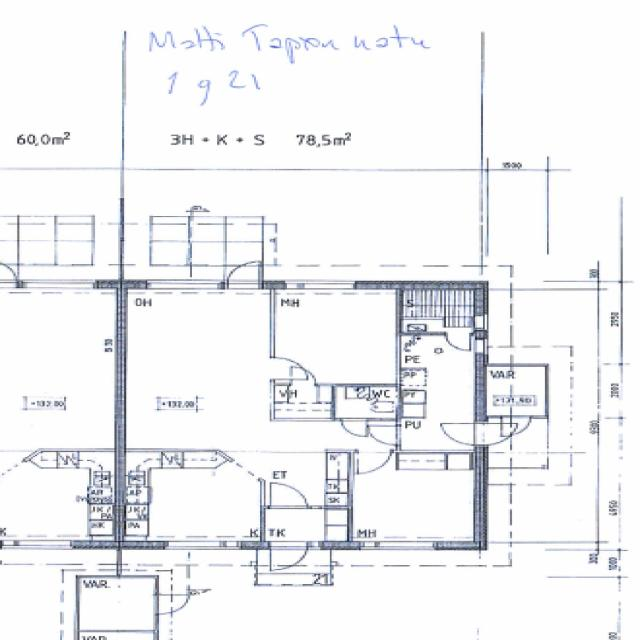door: (436, 418, 504, 448), (260, 479, 312, 512), (265, 538, 312, 574), (222, 260, 265, 290), (149, 590, 193, 616), (352, 448, 392, 475), (363, 421, 402, 446), (441, 329, 477, 354), (282, 360, 318, 385), (336, 416, 372, 439)
window: (157, 534, 249, 554), (15, 276, 106, 296), (136, 277, 230, 296), (352, 537, 445, 556), (0, 532, 83, 551), (284, 278, 364, 293)
zone: (119, 287, 271, 451), (0, 288, 122, 459), (118, 451, 266, 547), (347, 452, 482, 548), (270, 287, 399, 384), (0, 449, 120, 545), (77, 574, 155, 636), (402, 283, 485, 332), (483, 362, 547, 416), (328, 382, 406, 421), (269, 383, 332, 418)
